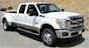front_view: (54, 12, 87, 42)
headlight: (54, 20, 70, 29)
side_glass: (16, 5, 42, 18)
